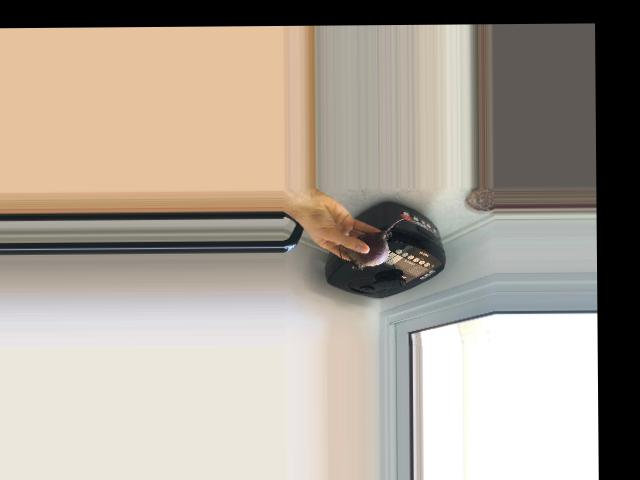beet: (340, 217, 404, 269)
